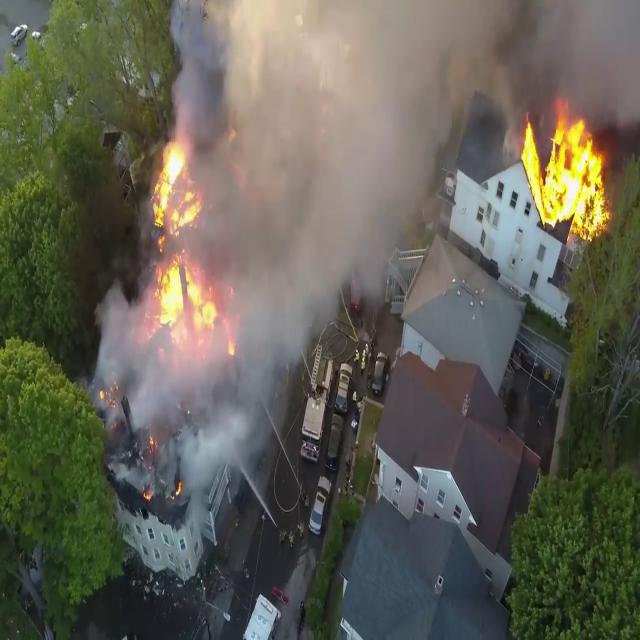Fire: (139, 140, 222, 358), (518, 104, 615, 244)
Smoke: (82, 0, 507, 510)
